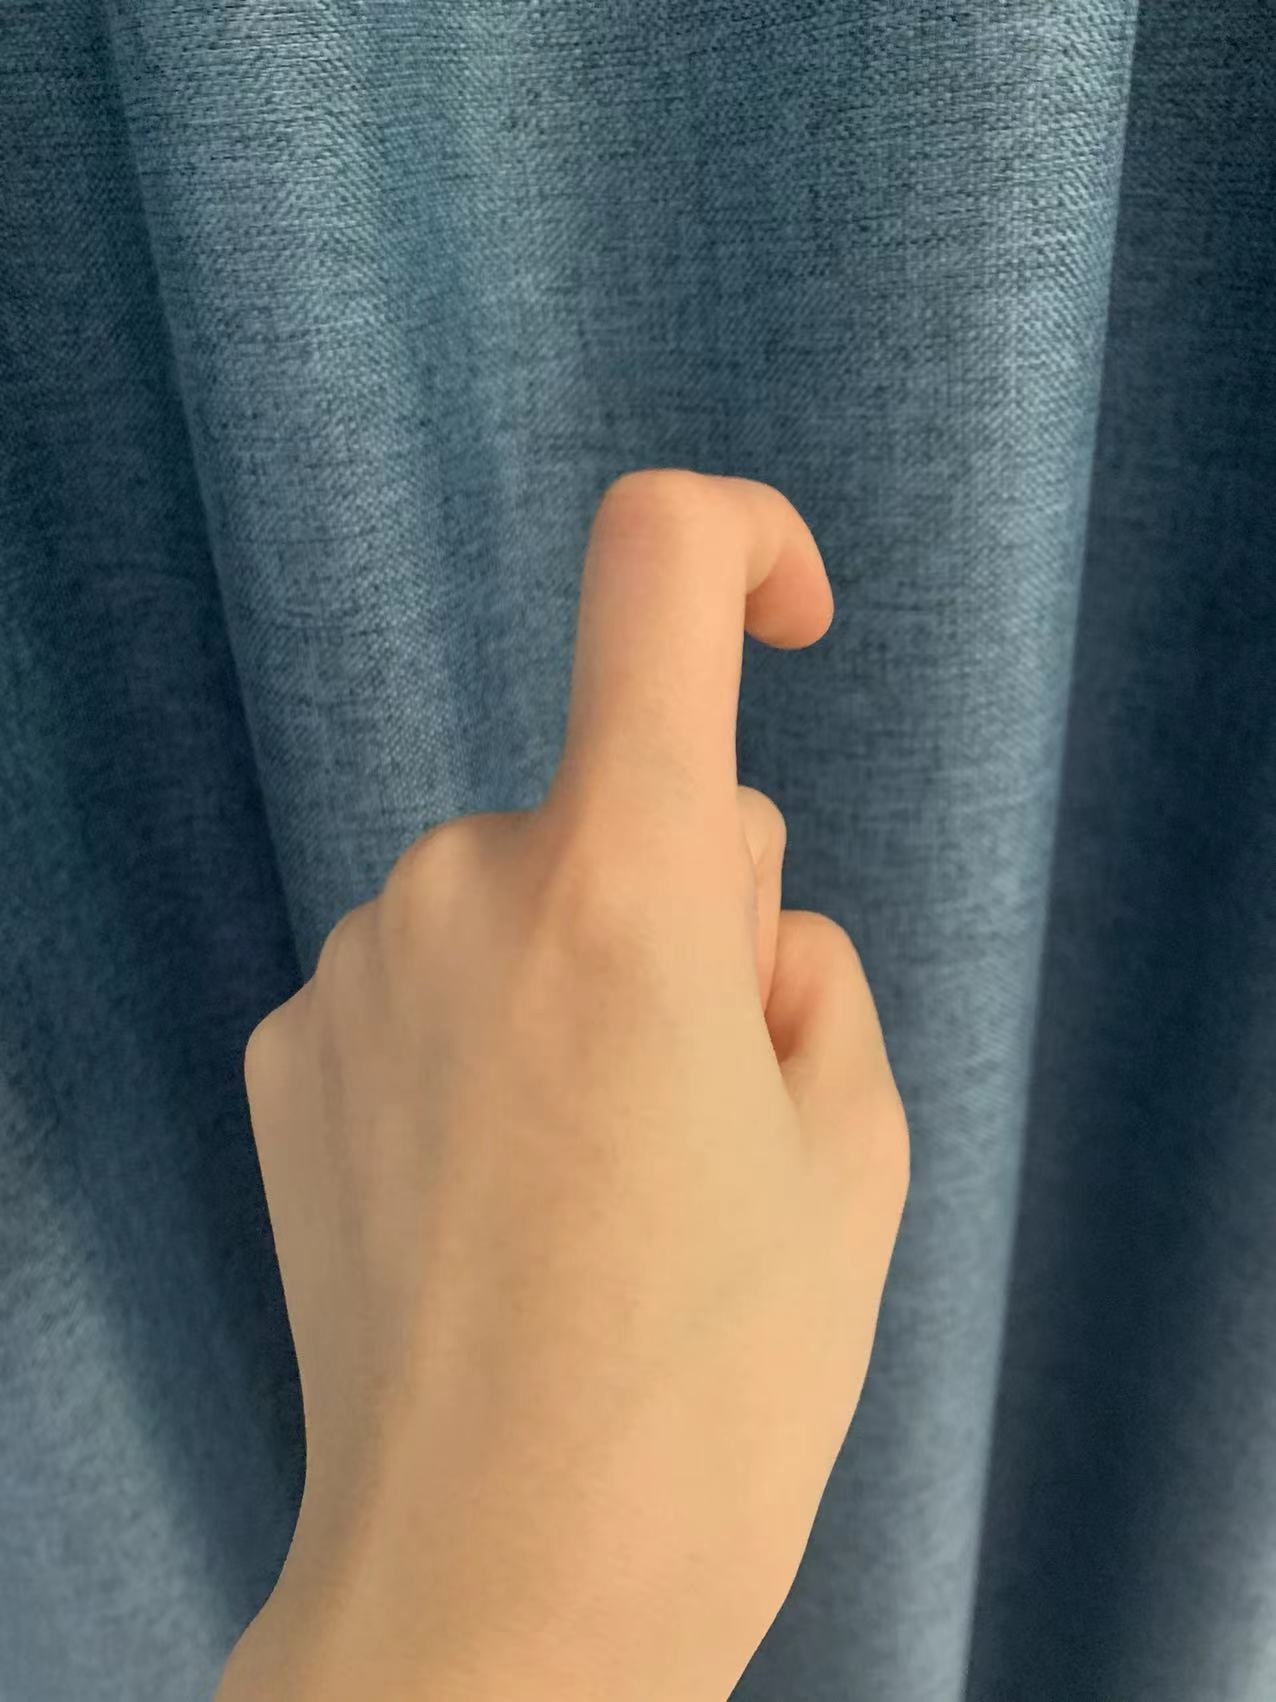anticlockwise: (225, 458, 944, 1500)
